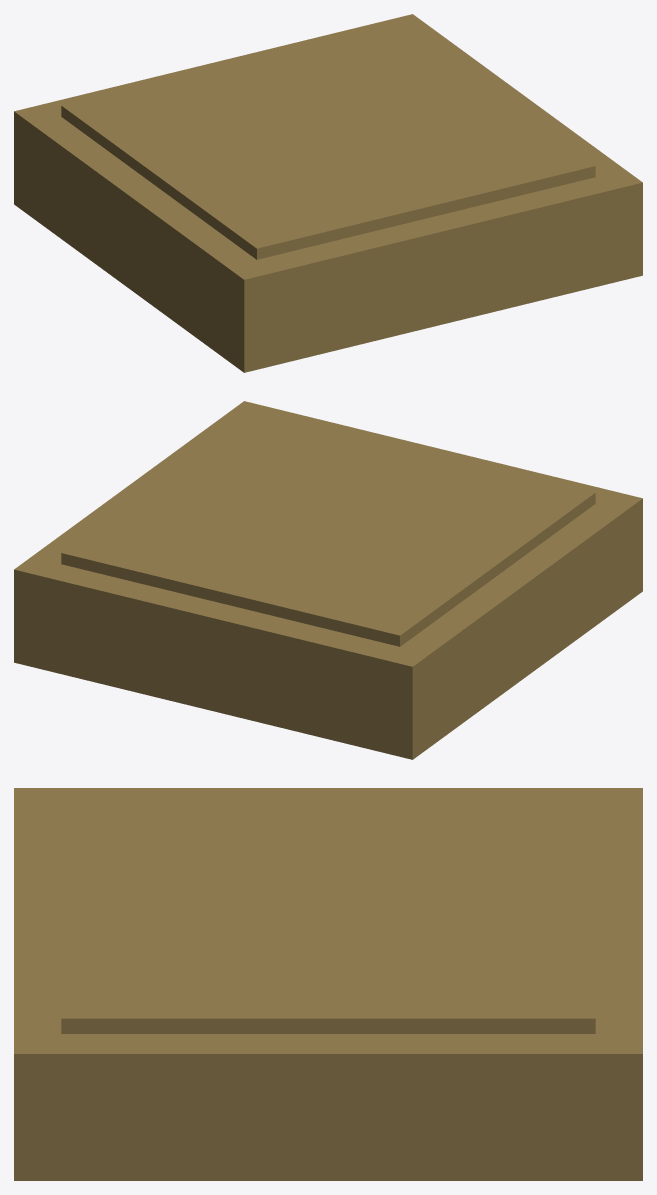
Rendered from Grail_button.fbx.
3 views of the same model, one above another, from view 1: azimuth 30°, elevation 25°; view 2: azimuth 150°, elevation 25°; view 3: azimuth 270°, elevation 25° (orthographic). The views are drawn at different scales.
Visible parts, largest first — view 1: Cube; view 2: Cube; view 3: Cube.
Part boxes in pixels (x1,y1,x2,y2): Cube: (14,14,642,372); Cube: (14,401,642,759); Cube: (14,788,642,1180).
Size of the model in its own units: 80 by 20 by 80.
